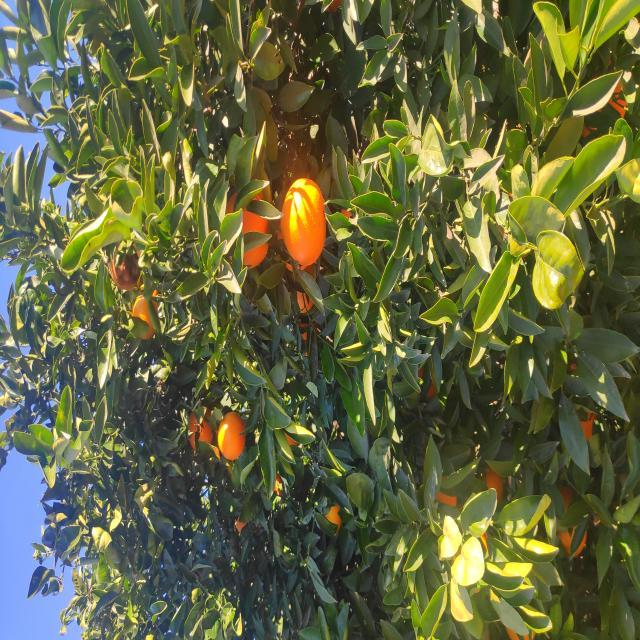Jeruk Sudah Matang: (374, 282, 464, 326), (370, 226, 458, 270), (84, 560, 154, 586), (179, 218, 228, 245), (298, 133, 344, 157), (190, 188, 233, 213), (522, 608, 566, 627), (138, 484, 170, 504), (105, 326, 136, 342), (326, 296, 352, 312), (200, 582, 230, 595), (194, 285, 209, 300), (108, 236, 118, 243)
